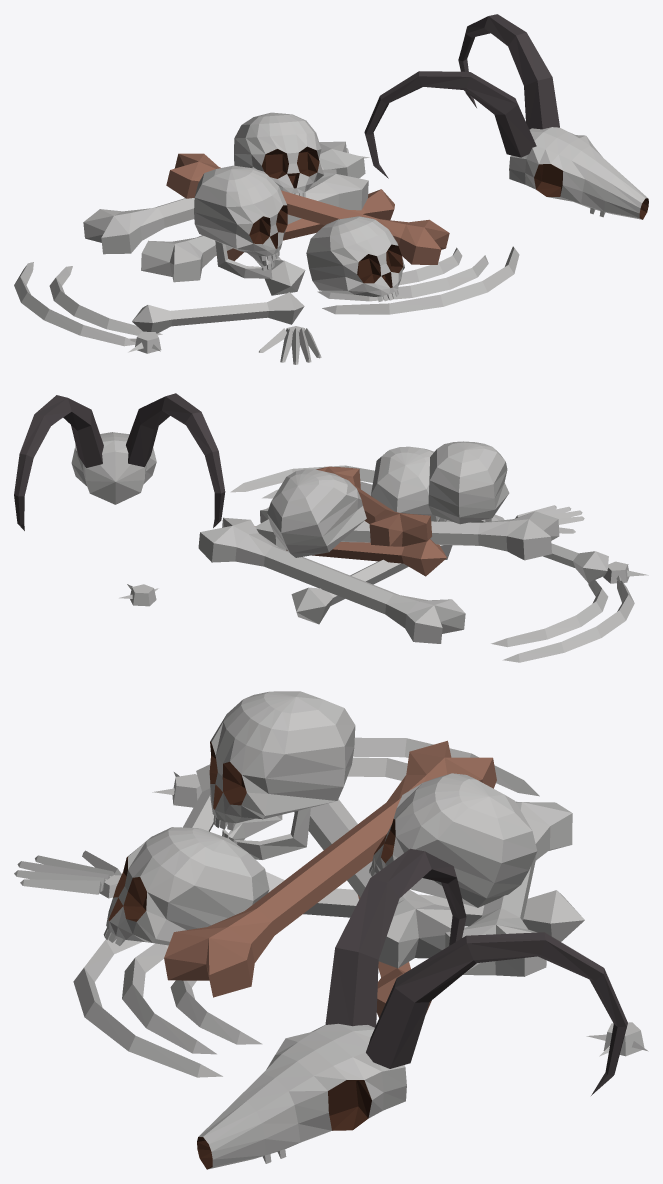
Rendered from skull-and-bone-scatter-3dea4c.glb.
3 views of the same model, one above another, from view 1: azimuth 30°, elevation 25°; view 2: azimuth 150°, elevation 25°; view 3: azimuth 270°, elevation 25° (orthographic). The views are drawn at different scales.
Parts seen in each view (by area): view 1: bones, horned-skull-mesh, skull-1-mesh, skull-3-mesh, skull-2-mesh; view 2: bones, horned-skull-mesh, skull-2-mesh, skull-1-mesh, skull-3-mesh; view 3: bones, horned-skull-mesh, skull-1-mesh, skull-2-mesh, skull-3-mesh.
Boxes of the visible parts, box(x1,y1,x2,y2) form: bones: box(14, 141, 519, 364); horned-skull-mesh: box(364, 14, 648, 219); skull-1-mesh: box(194, 165, 287, 278); skull-3-mesh: box(306, 216, 404, 301); skull-2-mesh: box(234, 112, 324, 197); bones: box(119, 465, 648, 662); horned-skull-mesh: box(14, 393, 225, 530); skull-2-mesh: box(267, 469, 366, 557); skull-1-mesh: box(428, 441, 509, 524); skull-3-mesh: box(371, 446, 439, 521); bones: box(14, 737, 648, 1077); horned-skull-mesh: box(197, 848, 627, 1169); skull-1-mesh: box(209, 691, 355, 859); skull-2-mesh: box(369, 773, 537, 907); skull-3-mesh: box(103, 827, 269, 945).
Bounding box in the file's own units: 1.38 × 0.3177 × 0.8773.
